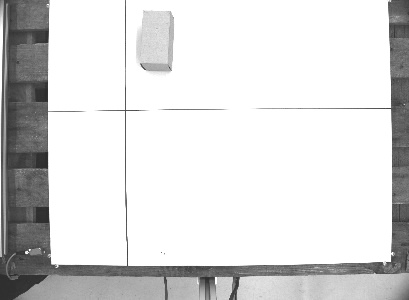b2: (136, 8, 177, 73)
